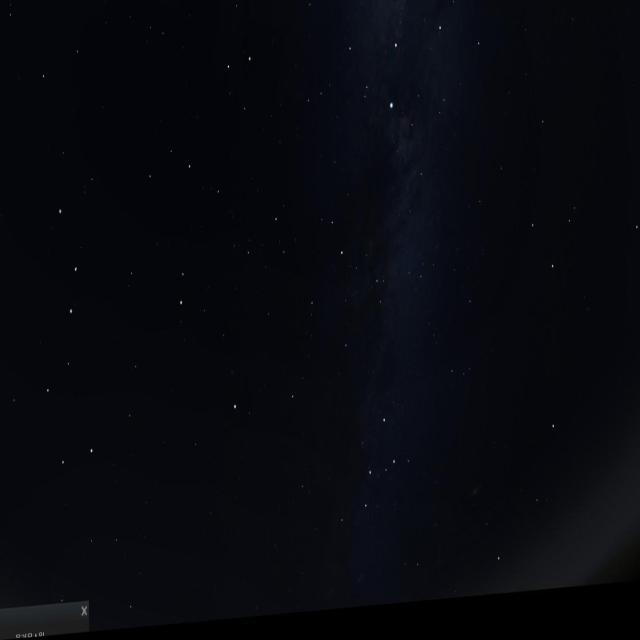cassiopeia: (325, 402, 417, 553)
cygnus: (334, 0, 468, 171)
ursa_major: (38, 195, 110, 481)
